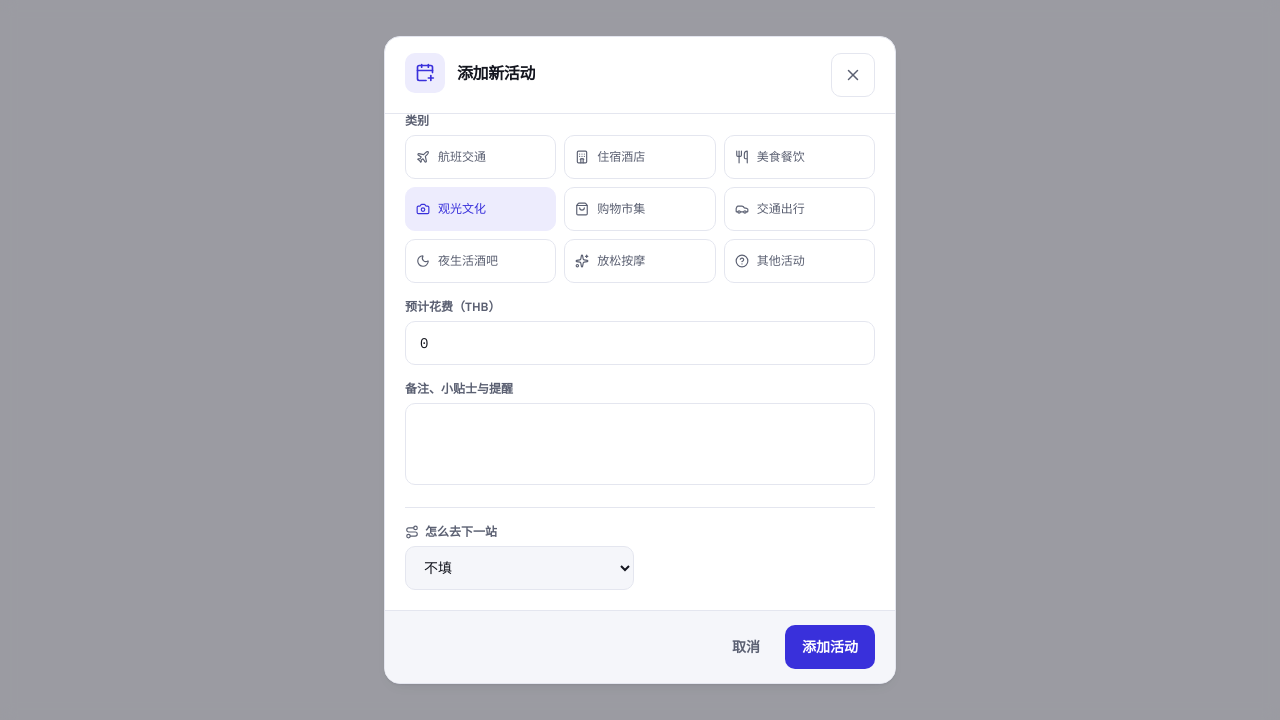
Test case: ActivityModal — the hop to the next stop › asks for a travel time only once there is a way of getting there
The image size is (1280, 720).
(page scrolled)
Expected: the field labelled "路上要多久（分钟）" is not shown
Select "火车" in the dropdown labelled "怎么去下一站" at (520, 568), box [405,546,634,590]
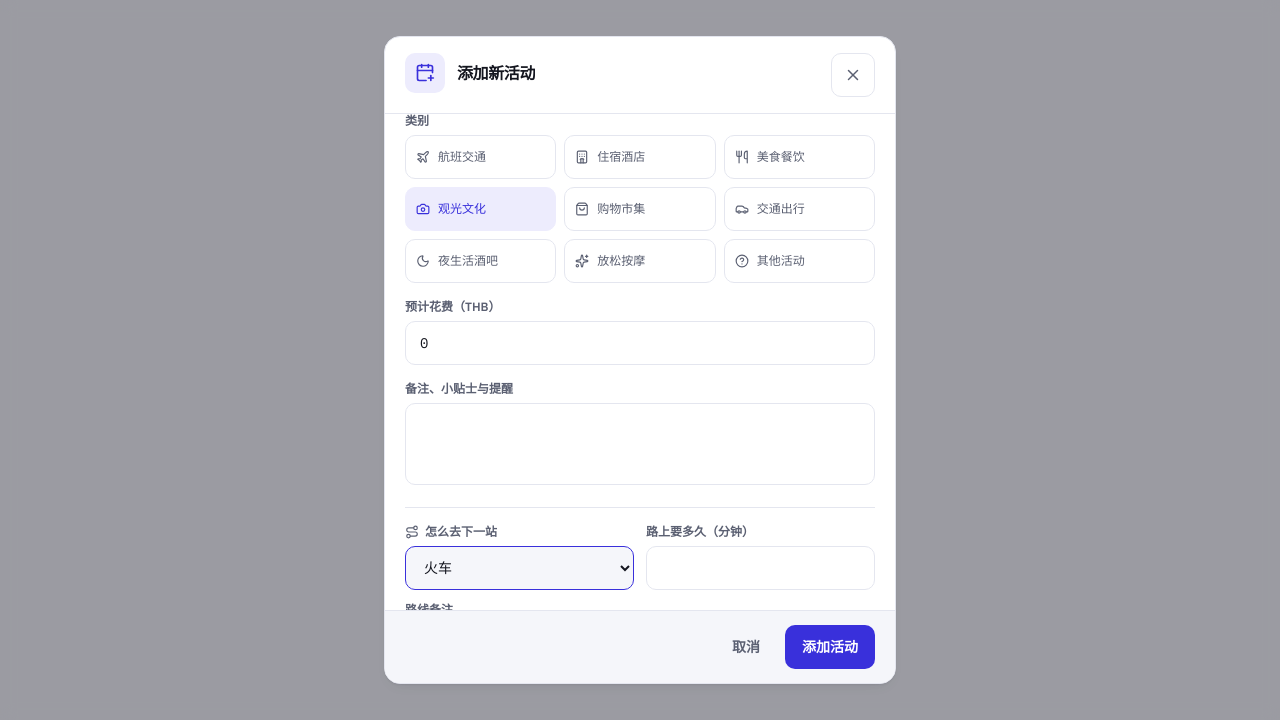
Expected: the number field labelled "路上要多久（分钟）" is shown, [646,546,875,590]
